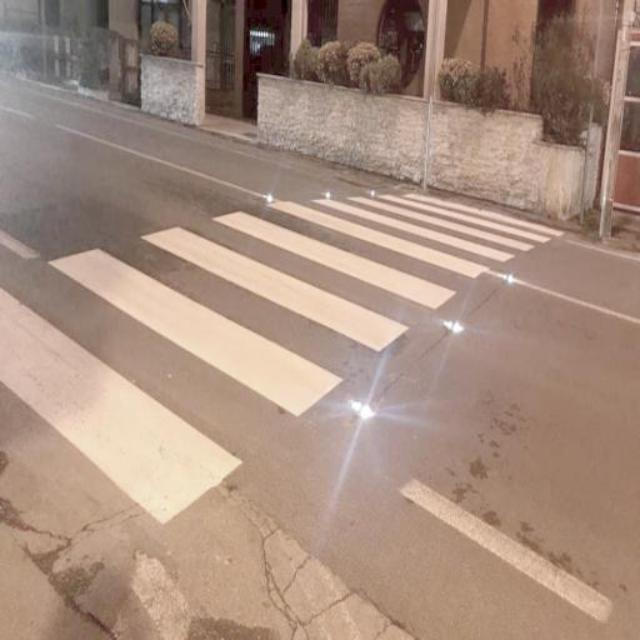sidewalk: (0, 185, 573, 594)
